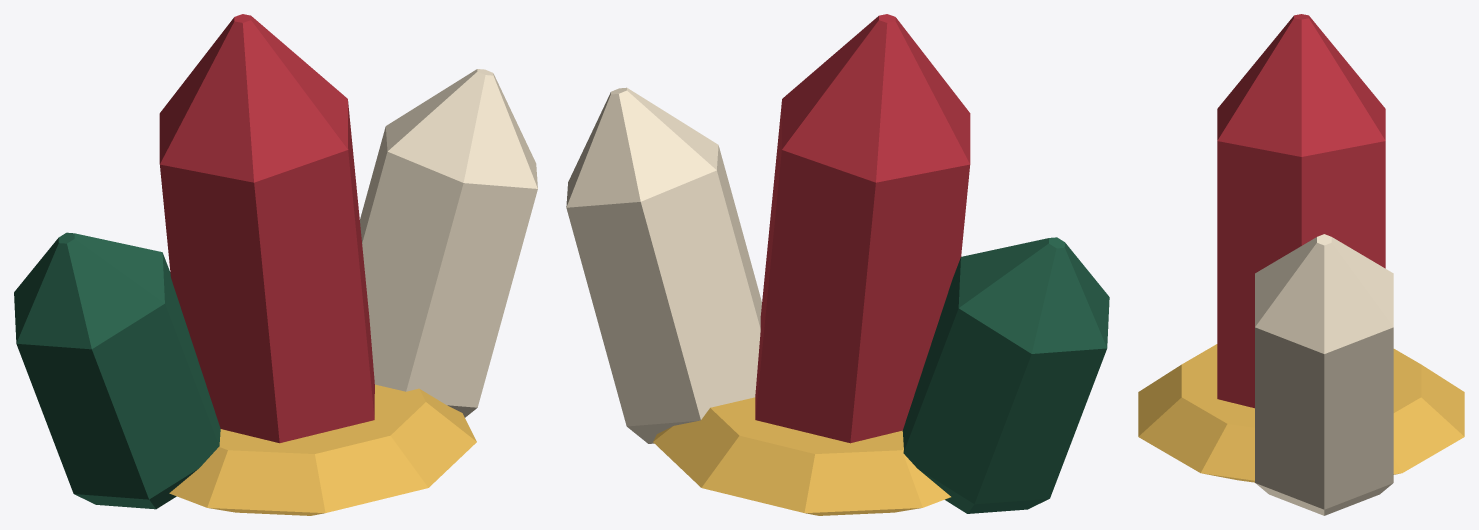
Rendered from ACC_TH_ICE_Primary.fbx.
The picture shows the model from 3 angles, left to right: view 1: azimuth 30°, elevation 25°; view 2: azimuth 150°, elevation 25°; view 3: azimuth 270°, elevation 25°; orthographic projection. The views are drawn at different scales.
Parts seen in each view (by area): view 1: ACC_TH_ICE_Primary; view 2: ACC_TH_ICE_Primary; view 3: ACC_TH_ICE_Primary.
Part boxes in pixels (box(x1,y1,x2,y2)): ACC_TH_ICE_Primary: box(14, 14, 537, 515); ACC_TH_ICE_Primary: box(566, 14, 1109, 515); ACC_TH_ICE_Primary: box(1138, 14, 1464, 515).
Size of the model in its own units: 95.23 by 78.77 by 57.06.
